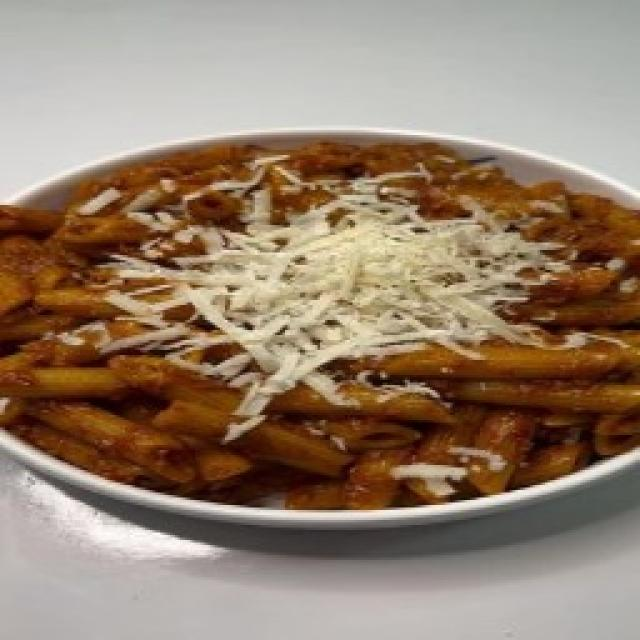Pasta: (0, 130, 640, 545)
